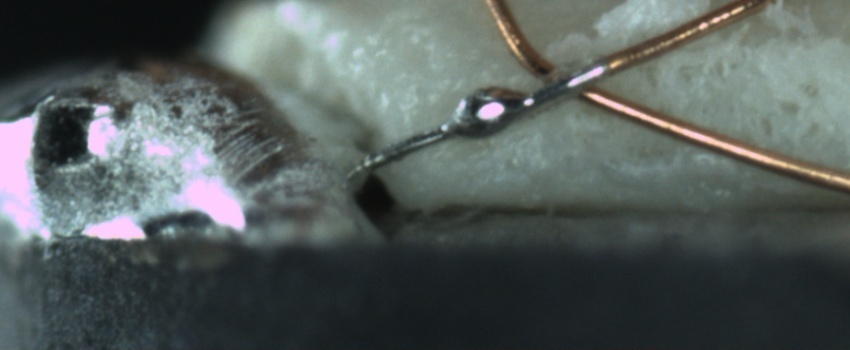CL: (513, 48, 638, 107)
TB: (446, 76, 528, 138)
TS: (369, 63, 610, 169)
TTCW: (345, 36, 656, 184)
